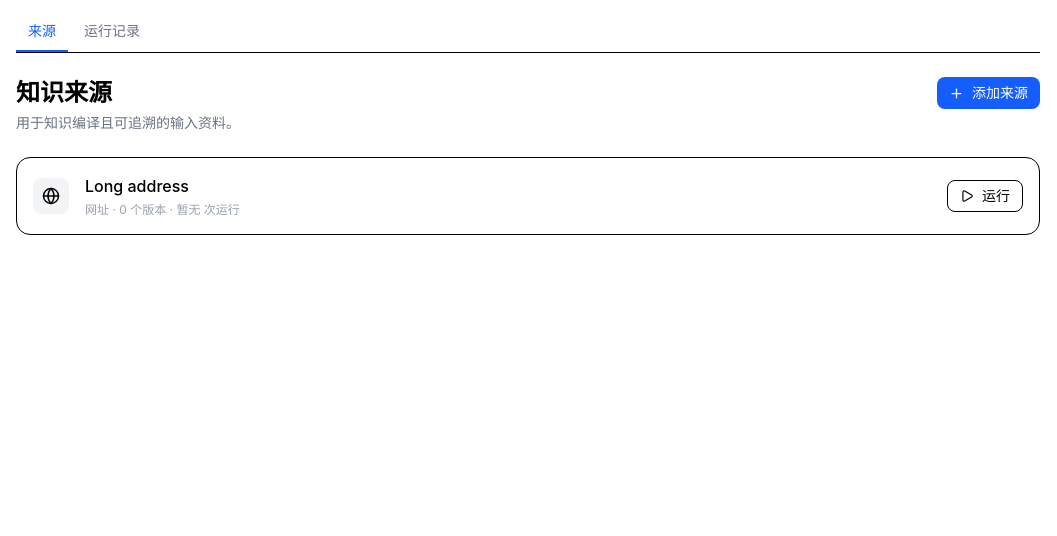
Test case: wraps the complete long source address and copies it exactly
Click the button "Long address 网址 · 0 个版本 · 暂无 次运行" at (137,186), box [85,174,931,218]
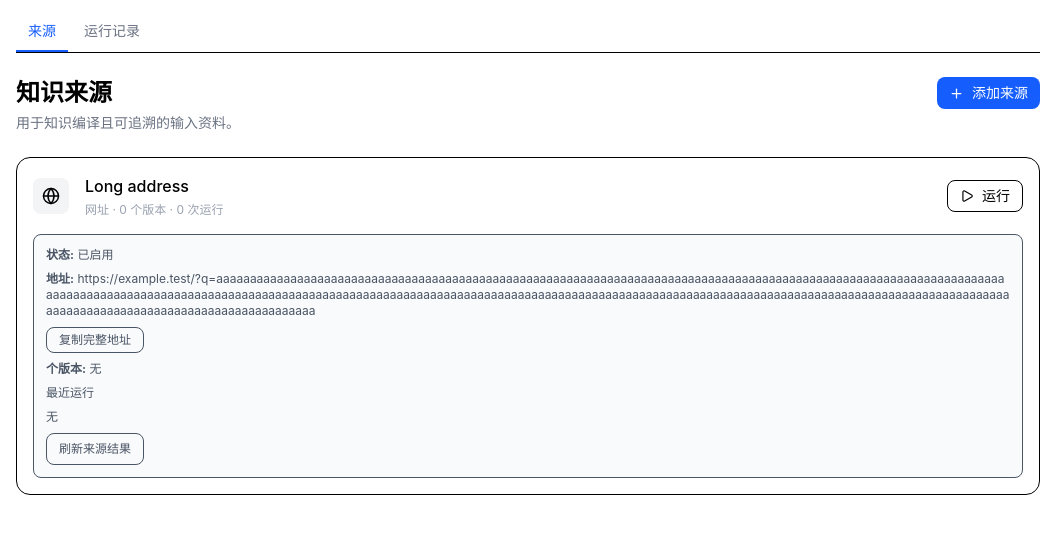
Click the button "复制完整地址" at (95,340), box [46,327,144,353]
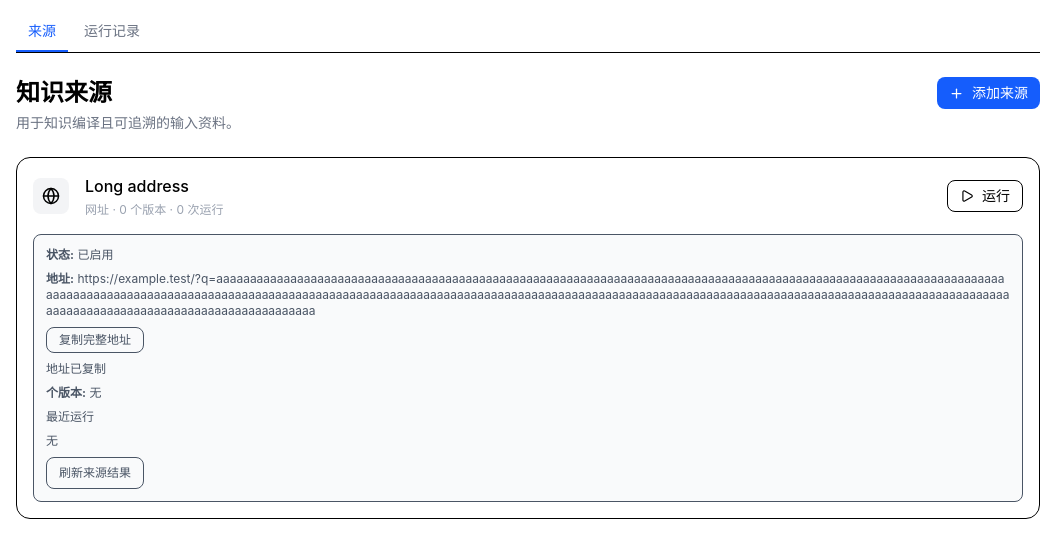
Now the text "地址已复制" is shown, box [46,361,106,376]
